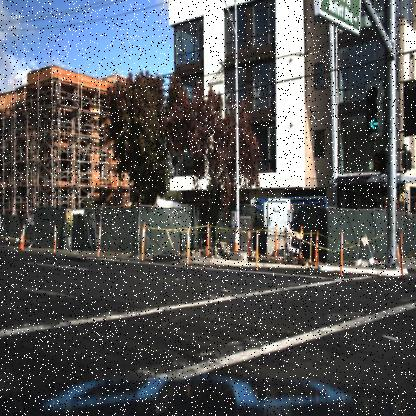trafficLight-Green: (364, 79, 385, 138)
